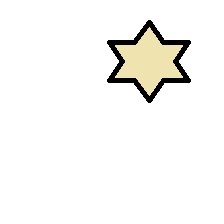star: (106, 19, 190, 103)
